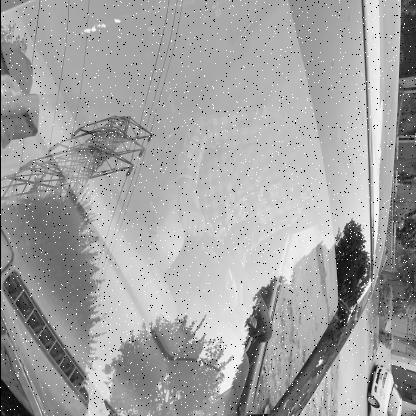no_seatbelt: (184, 122, 326, 247)
